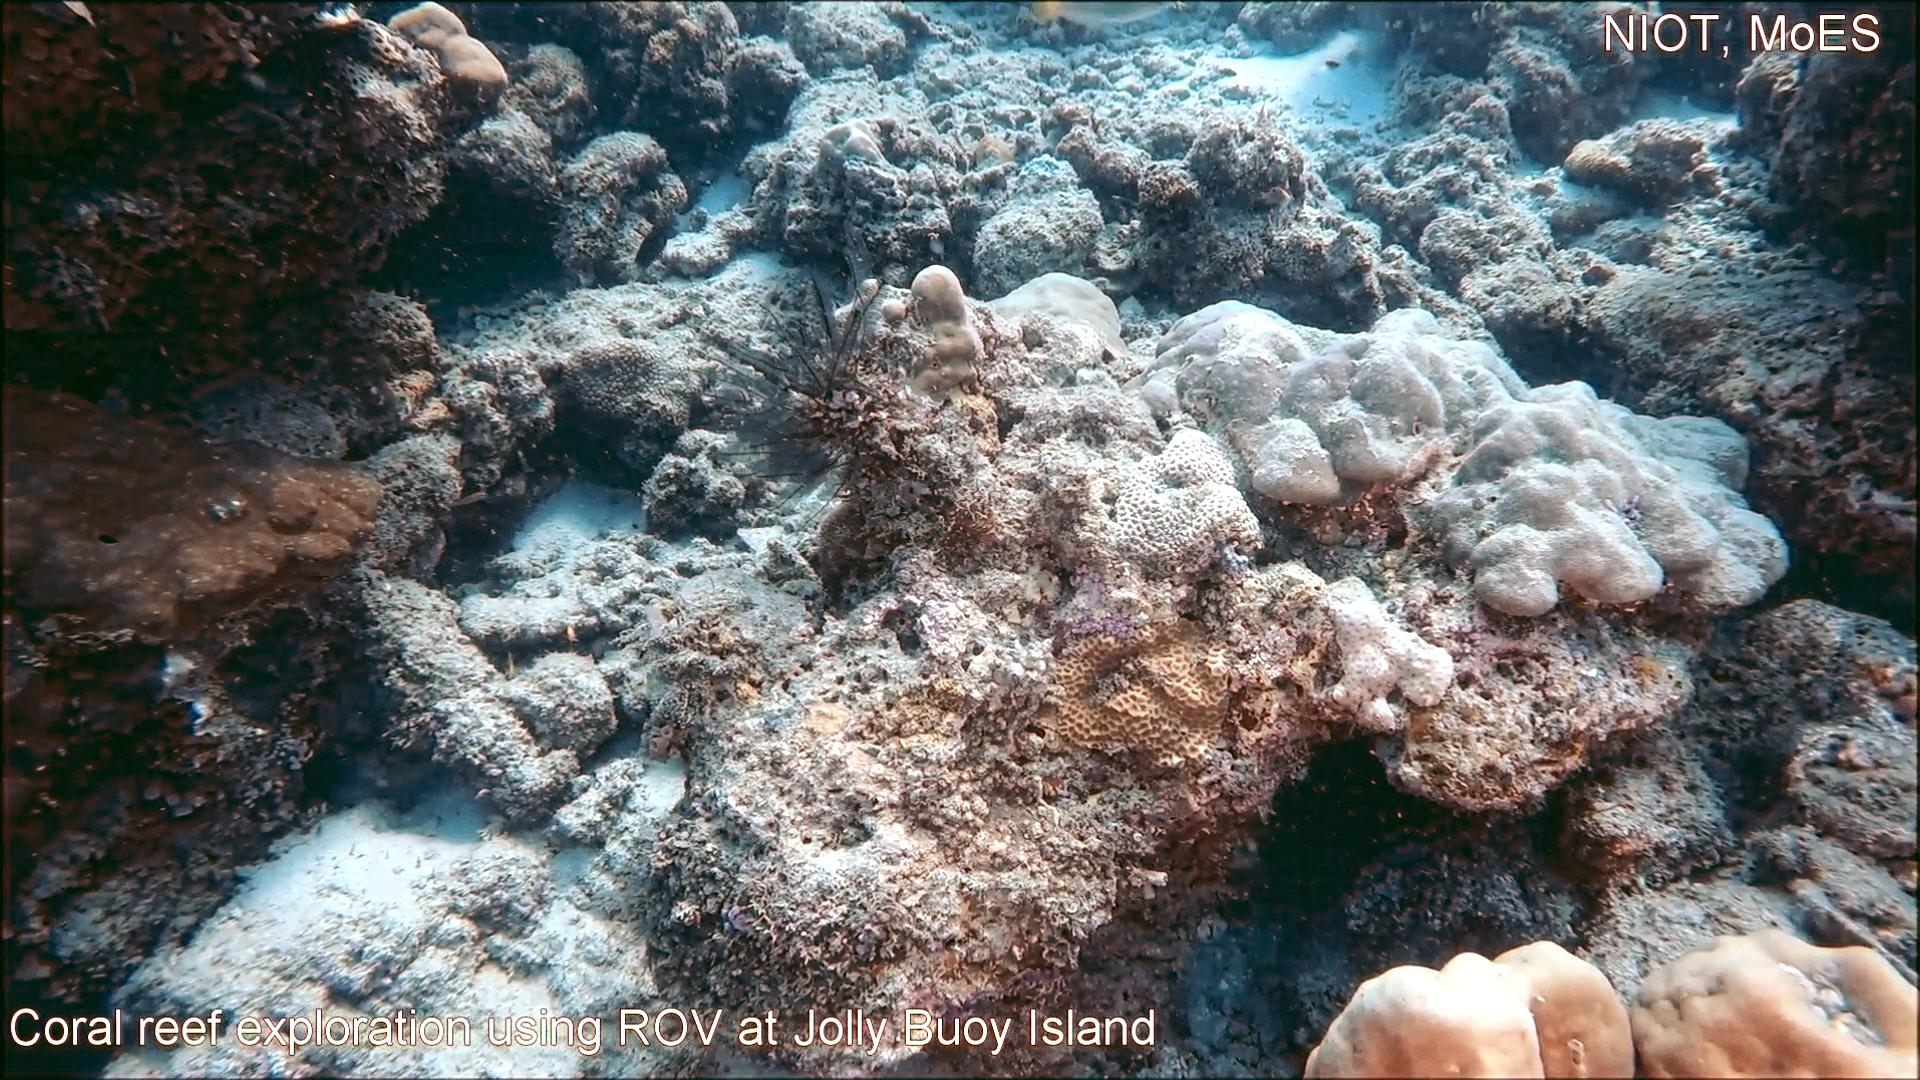Favites-Favites vasta: (1048, 608, 1237, 778)
Feather star-Crinoid star: (662, 212, 898, 562)
Goniastrea-Goniastrea pectinata: (1104, 421, 1270, 580)
Porites-Porites pukoensis: (1346, 302, 1793, 622)
Turbinaria-Turbinaria stellulata: (546, 328, 684, 483)
